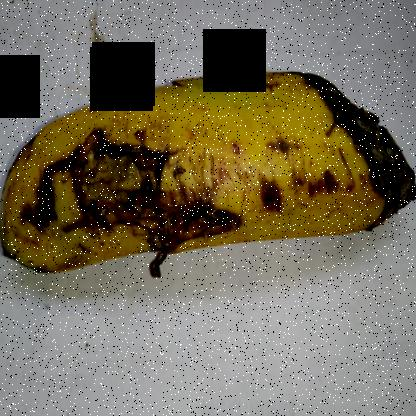rotten: (26, 110, 257, 302), (285, 61, 415, 246)
